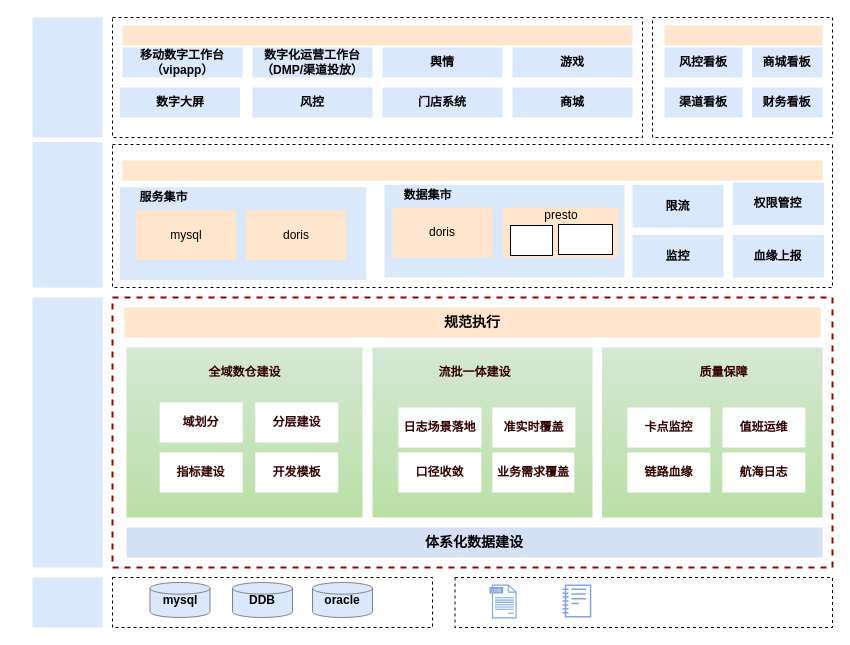
Image size: 850x645. Some labels were removed from this diagram. The shapes that lost their labels are listed below. From the top down, each one's centre as x and y in pixels, then its label:
At point 377,35: "平台&系统".
At point 743,35: "BI报表".
At point 67,77: "应用层".
At point 472,170: "网关服务".
At point 67,214: "查询层".
At point 531,240: "hive".
At point 585,239: "iceberg".
At point 67,432: "数据层".
At point 67,602: "数据源".
At point 502,601: "日志".
At point 576,601: "埋点".
